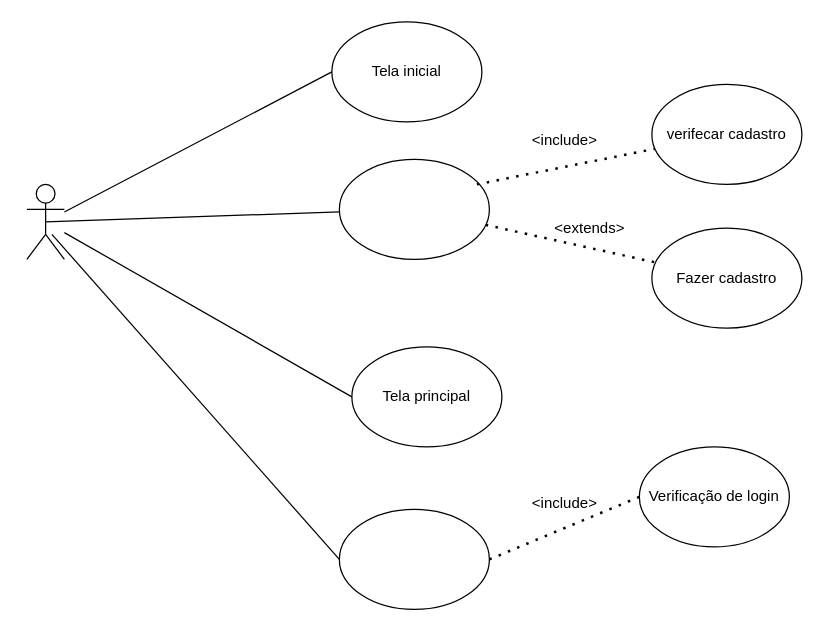
This 824x631 diagram has some shape labels left out. The centre of each missing label's shape, as x and y in pixels:
"acesso para outras páginas" belongs at [413,558].
"Fazer login" belongs at [413,208].
"usuário" belongs at [45,221].
